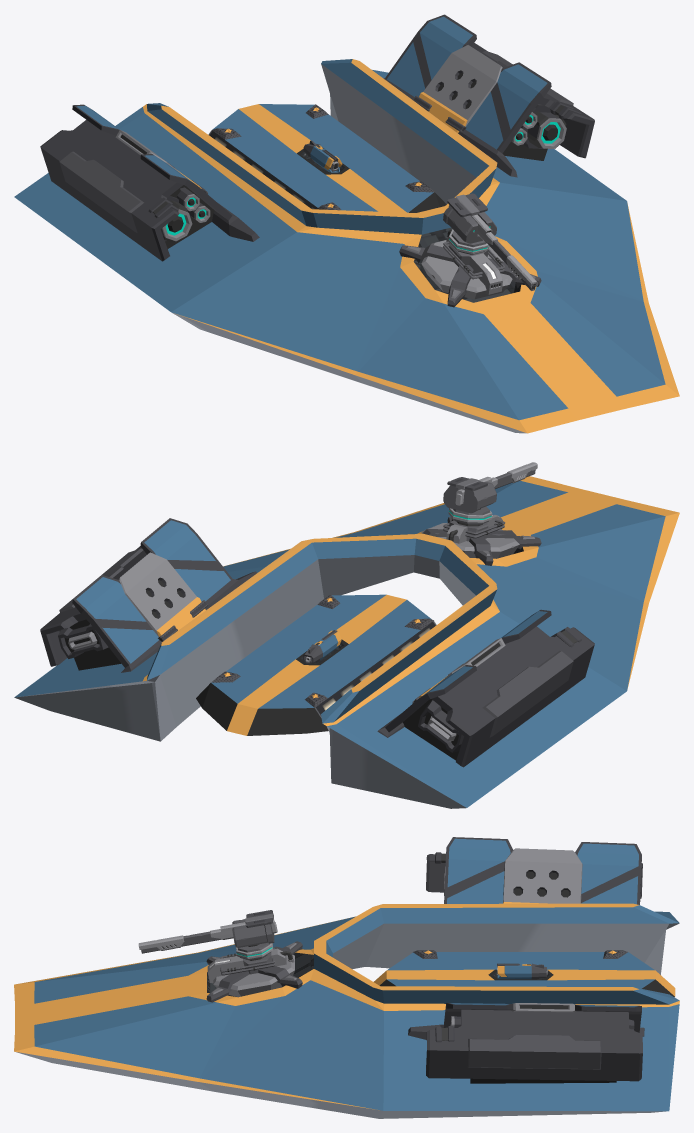
Rendered from Roofs.fbx.
3 views of the same model, one above another, from view 1: azimuth 30°, elevation 25°; view 2: azimuth 150°, elevation 25°; view 3: azimuth 270°, elevation 25° (orthographic). The views are drawn at different scales.
Visible parts, largest first — view 1: polySurface154, SM_Veh_Part_Engine_04, SM_Veh_Part_Engine_20, polySurface64, SM_Prop_Turret_Large_01, SM_Prop_Turret_Large_Top_01, SM_Prop_Turret_Large_Barrel_01, polySurface158, SM_Veh_Part_Engine_01; view 2: polySurface154, polySurface64, SM_Veh_Part_Engine_04, SM_Veh_Part_Engine_20, SM_Prop_Turret_Large_01, SM_Prop_Turret_Large_Top_01, polySurface158, SM_Veh_Part_Engine_01, SM_Prop_Turret_Large_Barrel_01; view 3: polySurface154, SM_Veh_Part_Engine_04, SM_Veh_Part_Engine_20, polySurface64, SM_Prop_Turret_Large_01, SM_Prop_Turret_Large_Top_01, SM_Prop_Turret_Large_Barrel_01, SM_Veh_Part_Engine_01.
Boxes of the visible parts, x1=… form: polySurface154: x1=14, y1=59, x2=679, y2=433; SM_Veh_Part_Engine_04: x1=383, y1=14, x2=594, y2=177; SM_Veh_Part_Engine_20: x1=40, y1=104, x2=259, y2=261; polySurface64: x1=208, y1=104, x2=446, y2=212; SM_Prop_Turret_Large_01: x1=399, y1=229, x2=541, y2=307; SM_Prop_Turret_Large_Top_01: x1=443, y1=193, x2=496, y2=254; SM_Prop_Turret_Large_Barrel_01: x1=471, y1=214, x2=537, y2=290; polySurface158: x1=212, y1=104, x2=434, y2=210; SM_Veh_Part_Engine_01: x1=303, y1=140, x2=342, y2=172; polySurface154: x1=14, y1=476, x2=679, y2=808; polySurface64: x1=196, y1=594, x2=436, y2=735; SM_Veh_Part_Engine_04: x1=40, y1=518, x2=256, y2=672; SM_Veh_Part_Engine_20: x1=377, y1=609, x2=594, y2=767; SM_Prop_Turret_Large_01: x1=407, y1=515, x2=541, y2=565; SM_Prop_Turret_Large_Top_01: x1=443, y1=477, x2=496, y2=524; polySurface158: x1=211, y1=594, x2=433, y2=707; SM_Veh_Part_Engine_01: x1=303, y1=630, x2=341, y2=663; SM_Prop_Turret_Large_Barrel_01: x1=479, y1=462, x2=537, y2=488; polySurface154: x1=14, y1=903, x2=679, y2=1118; SM_Veh_Part_Engine_04: x1=408, y1=1003, x2=644, y2=1083; SM_Veh_Part_Engine_20: x1=426, y1=837, x2=642, y2=904; polySurface64: x1=374, y1=952, x2=675, y2=997; SM_Prop_Turret_Large_01: x1=206, y1=941, x2=302, y2=1002; SM_Prop_Turret_Large_Top_01: x1=232, y1=910, x2=277, y2=959; SM_Prop_Turret_Large_Barrel_01: x1=138, y1=922, x2=246, y2=953; SM_Veh_Part_Engine_01: x1=497, y1=963, x2=547, y2=979.
Bounding box in the file's own units: 1752 × 486 × 2457.
